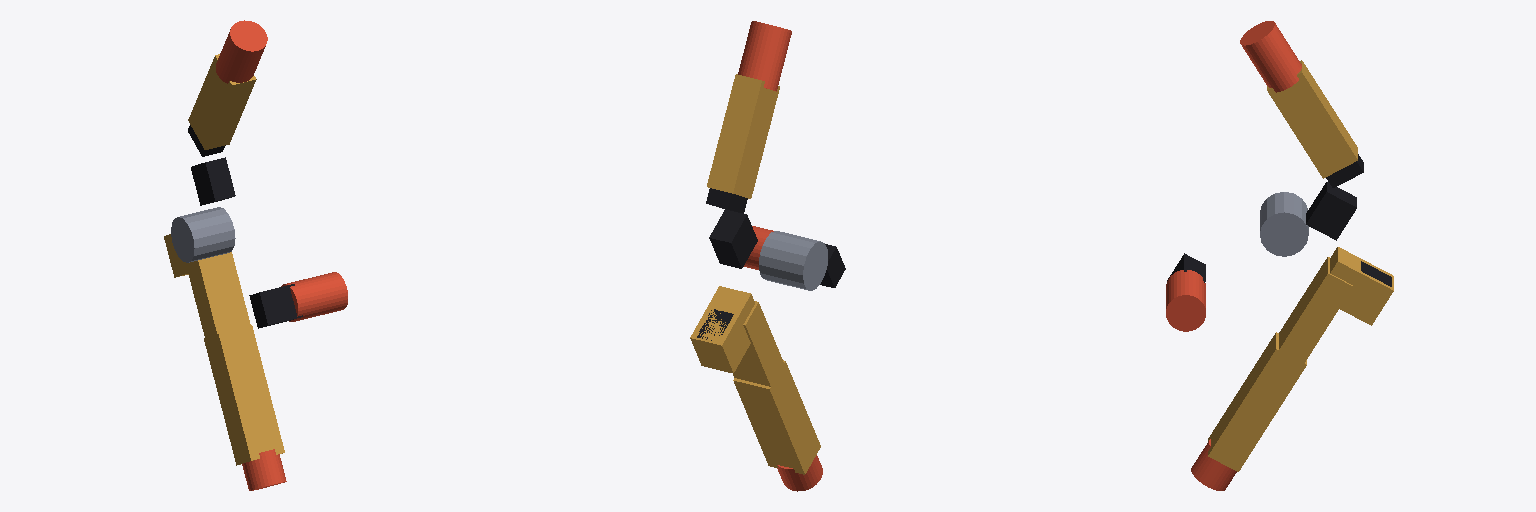
robot.urdf — g0039_c13:
<robot name="g0039_c13">
  <link name="palm">
    <visual name="palm_palm1">
      <origin xyz="0 0 0" rpy="0 0 0" />
      <geometry>
        <mesh filename="palm_palm1.obj" />
      </geometry>
      <material name="palm_palm1_mat">
        <color rgba="0.55 0.57 0.62 1" />
      </material>
    </visual>
    <collision>
      <origin xyz="0 0 0" rpy="0 0 0" />
      <geometry>
        <mesh filename="palm_palm1.obj" />
      </geometry>
    </collision>
    <visual name="palm_mount2">
      <origin xyz="0 0 0" rpy="0 0 0" />
      <geometry>
        <mesh filename="palm_mount2.obj" />
      </geometry>
      <material name="palm_mount2_mat">
        <color rgba="0.55 0.57 0.62 1" />
      </material>
    </visual>
    <collision>
      <origin xyz="0 0 0" rpy="0 0 0" />
      <geometry>
        <mesh filename="palm_mount2.obj" />
      </geometry>
    </collision>
    <visual name="palm_hinge3">
      <origin xyz="0 0.0385705081 0.0268060797" rpy="-1.57079633 0.523598776 1.57079633" />
      <geometry>
        <box size="0.029 0.034 0.02" />
      </geometry>
      <material name="palm_hinge3_mat">
        <color rgba="0.15 0.15 0.17 1" />
      </material>
    </visual>
    <collision>
      <origin xyz="0 0.0385705081 0.0268060797" rpy="-1.57079633 0.523598776 1.57079633" />
      <geometry>
        <box size="0.029 0.034 0.02" />
      </geometry>
    </collision>
    <visual name="palm_motor4">
      <origin xyz="-0.007 -0.08 -0.04" rpy="1.06057524e-16 -1.04719755 1.57079633" />
      <geometry>
        <box size="0.029 0.034 0.02" />
      </geometry>
      <material name="palm_motor4_mat">
        <color rgba="0.15 0.15 0.17 1" />
      </material>
    </visual>
    <collision>
      <origin xyz="-0.007 -0.08 -0.04" rpy="1.06057524e-16 -1.04719755 1.57079633" />
      <geometry>
        <box size="0.029 0.034 0.02" />
      </geometry>
    </collision>
    <visual name="palm_motor5">
      <origin xyz="-0.0045 0.0666996732 -0.0467548095" rpy="1.57079633 -0.523598776 -1.57079633" />
      <geometry>
        <box size="0.029 0.034 0.02" />
      </geometry>
      <material name="palm_motor5_mat">
        <color rgba="0.15 0.15 0.17 1" />
      </material>
    </visual>
    <collision>
      <origin xyz="-0.0045 0.0666996732 -0.0467548095" rpy="1.57079633 -0.523598776 -1.57079633" />
      <geometry>
        <box size="0.029 0.034 0.02" />
      </geometry>
    </collision>
    <inertial>
      <origin xyz="0 0.00368931341 -0.01892775" rpy="1.57079633 -0.0331167537 1.57079633" />
      <mass value="0.64576807" />
      <inertia ixx="0.000578373864" ixy="0" ixz="0" iyy="0.00132638435" iyz="0" izz="0.00184276448" />
    </inertial>
  </link>
  <link name="palm0">
    <visual name="palm0_palm1">
      <origin xyz="0 0 0" rpy="0 0 0" />
      <geometry>
        <mesh filename="palm0_palm1.obj" />
      </geometry>
      <material name="palm0_palm1_mat">
        <color rgba="0.55 0.57 0.62 1" />
      </material>
    </visual>
    <collision>
      <origin xyz="0 0 0" rpy="0 0 0" />
      <geometry>
        <mesh filename="palm0_palm1.obj" />
      </geometry>
    </collision>
    <visual name="palm0_motor2">
      <origin xyz="0 0.00142949192 0.0402035393" rpy="-1.57079633 -0.523598776 1.57079633" />
      <geometry>
        <box size="0.029 0.034 0.02" />
      </geometry>
      <material name="palm0_motor2_mat">
        <color rgba="0.15 0.15 0.17 1" />
      </material>
    </visual>
    <collision>
      <origin xyz="0 0.00142949192 0.0402035393" rpy="-1.57079633 -0.523598776 1.57079633" />
      <geometry>
        <box size="0.029 0.034 0.02" />
      </geometry>
    </collision>
    <inertial>
      <origin xyz="0 0.00145791609 0.0270592752" rpy="1.57079633 0.767034425 1.57079633" />
      <mass value="0.120116273" />
      <inertia ixx="2.54188292e-05" ixy="0" ixz="0" iyy="5.46456218e-05" iyz="0" izz="6.85332888e-05" />
    </inertial>
  </link>
  <link name="f0_link0">
    <visual name="f0_link0_link1">
      <origin xyz="0.029 0 -6.9388939e-18" rpy="-1.57079633 -0 -1.57079633" />
      <geometry>
        <cylinder radius="0.0165" length="0.049" />
      </geometry>
      <material name="f0_link0_link1_mat">
        <color rgba="0.85 0.35 0.25 1" />
      </material>
    </visual>
    <collision>
      <origin xyz="0.029 0 -6.9388939e-18" rpy="-1.57079633 -0 -1.57079633" />
      <geometry>
        <cylinder radius="0.0165" length="0.049" />
      </geometry>
    </collision>
    <inertial>
      <origin xyz="0.029 0 0" rpy="0 0 0" />
      <mass value="0.106270851" />
      <inertia ixx="1.35696277e-05" ixy="0" ixz="0" iyy="5.30015704e-05" iyz="0" izz="5.30015704e-05" />
    </inertial>
  </link>
  <link name="f1_link0">
    <visual name="f1_link0_link1">
      <origin xyz="-0.00625 0 -0.0165" rpy="0 4.06369831e-17 0" />
      <geometry>
        <box size="0.0365 0.029 0.053" />
      </geometry>
      <material name="f1_link0_link1_mat">
        <color rgba="0.80 0.62 0.30 1" />
      </material>
    </visual>
    <collision>
      <origin xyz="-0.00625 0 -0.0165" rpy="0 4.06369831e-17 0" />
      <geometry>
        <box size="0.0365 0.029 0.053" />
      </geometry>
    </collision>
    <inertial>
      <origin xyz="-0.00625 0 -0.0165" rpy="0 0 0" />
      <mass value="0.098175875" />
      <inertia ixx="2.98618286e-05" ixy="0" ixz="0" iyy="3.38809035e-05" iyz="0" izz="1.778006e-05" />
    </inertial>
  </link>
  <link name="f1_link1">
    <visual name="f1_link1_link1">
      <origin xyz="0.03875 0 0" rpy="0 4.06369831e-17 0" />
      <geometry>
        <box size="0.1015 0.033 0.024" />
      </geometry>
      <material name="f1_link1_link1_mat">
        <color rgba="0.80 0.62 0.30 1" />
      </material>
    </visual>
    <collision>
      <origin xyz="0.03875 0 0" rpy="0 4.06369831e-17 0" />
      <geometry>
        <box size="0.1015 0.033 0.024" />
      </geometry>
    </collision>
    <inertial>
      <origin xyz="0.03875 0 0" rpy="0 0 0" />
      <mass value="0.140679" />
      <inertia ixx="1.95192113e-05" ixy="0" ixz="0" iyy="0.000127528444" iyz="0" izz="0.000133542472" />
    </inertial>
  </link>
  <link name="f1_link2">
    <visual name="f1_link2_link1">
      <origin xyz="0.04375 0 -6.9388939e-18" rpy="0 4.06369831e-17 0" />
      <geometry>
        <box size="0.1115 0.033 0.029" />
      </geometry>
      <material name="f1_link2_link1_mat">
        <color rgba="0.80 0.62 0.30 1" />
      </material>
    </visual>
    <collision>
      <origin xyz="0.04375 0 -6.9388939e-18" rpy="0 4.06369831e-17 0" />
      <geometry>
        <box size="0.1115 0.033 0.029" />
      </geometry>
    </collision>
    <inertial>
      <origin xyz="0.04375 0 0" rpy="0 0 0" />
      <mass value="0.186734625" />
      <inertia ixx="3.00331522e-05" ixy="0" ixz="0" iyy="0.000206547947" iyz="0" izz="0.000210407129" />
    </inertial>
  </link>
  <link name="f1_link3">
    <visual name="f1_link3_link1">
      <origin xyz="0.019 0 -3.46944695e-18" rpy="-1.57079633 -0 -1.57079633" />
      <geometry>
        <cylinder radius="0.0165" length="0.029" />
      </geometry>
      <material name="f1_link3_link1_mat">
        <color rgba="0.85 0.35 0.25 1" />
      </material>
    </visual>
    <collision>
      <origin xyz="0.019 0 -3.46944695e-18" rpy="-1.57079633 -0 -1.57079633" />
      <geometry>
        <cylinder radius="0.0165" length="0.029" />
      </geometry>
    </collision>
    <inertial>
      <origin xyz="0.019 0 0" rpy="0 0 0" />
      <mass value="0.0763354" />
      <inertia ixx="9.49466441e-06" ixy="0" ixz="0" iyy="2.24143997e-05" iyz="0" izz="2.24143997e-05" />
    </inertial>
  </link>
  <link name="f2_link0">
    <visual name="f2_link0_link1">
      <origin xyz="0.03375 0 0" rpy="0 3.98552134e-18 0" />
      <geometry>
        <box size="0.0915 0.024 0.033" />
      </geometry>
      <material name="f2_link0_link1_mat">
        <color rgba="0.80 0.62 0.30 1" />
      </material>
    </visual>
    <collision>
      <origin xyz="0.03375 0 0" rpy="0 3.98552134e-18 0" />
      <geometry>
        <box size="0.0915 0.024 0.033" />
      </geometry>
    </collision>
    <inertial>
      <origin xyz="0.03375 0 0" rpy="0 0 0" />
      <mass value="0.126819" />
      <inertia ixx="1.75961363e-05" ixy="0" ixz="0" iyy="9.99888553e-05" iyz="0" izz="9.45673431e-05" />
    </inertial>
  </link>
  <link name="f2_link1">
    <visual name="f2_link1_link1">
      <origin xyz="0.029 0 -6.9388939e-18" rpy="-1.57079633 -0 -1.57079633" />
      <geometry>
        <cylinder radius="0.0165" length="0.049" />
      </geometry>
      <material name="f2_link1_link1_mat">
        <color rgba="0.85 0.35 0.25 1" />
      </material>
    </visual>
    <collision>
      <origin xyz="0.029 0 -6.9388939e-18" rpy="-1.57079633 -0 -1.57079633" />
      <geometry>
        <cylinder radius="0.0165" length="0.049" />
      </geometry>
    </collision>
    <inertial>
      <origin xyz="0.029 0 0" rpy="0 0 0" />
      <mass value="0.106270851" />
      <inertia ixx="1.35696277e-05" ixy="0" ixz="0" iyy="5.30015704e-05" iyz="0" izz="5.30015704e-05" />
    </inertial>
  </link>
  <joint name="palm0_joint" type="revolute">
    <parent link="palm" />
    <child link="palm0" />
    <origin xyz="0 0.0423205081 0.0333012702" rpy="0 0 0" />
    <axis xyz="0 0.866025404 -0.5" />
    <limit effort="0.5" lower="-0.523598776" upper="0.523598776" velocity="5" />
    <dynamics damping="0.0775033" friction="0" />
  </joint>
  <joint name="f0_j0" type="revolute">
    <parent link="palm" />
    <child link="f0_link0" />
    <origin xyz="0.0005 -0.08 -0.04" rpy="1.04719755 5.30287619e-17 -3.061617e-17" />
    <axis xyz="0 1 6.123234e-17" />
    <limit effort="0.5" lower="-0.523598776" upper="0.523598776" velocity="5" />
    <dynamics damping="0.0775033" friction="0" />
  </joint>
  <joint name="f1_j0" type="revolute">
    <parent link="palm" />
    <child link="f1_link0" />
    <origin xyz="-0.0045 0.04 -0.04" rpy="0 1.04719755 -1.57079633" />
    <axis xyz="0 0 1" />
    <limit effort="0.5" lower="-0.523598776" upper="1.57079633" velocity="5" />
    <dynamics damping="0.0775033" friction="0" />
  </joint>
  <joint name="f1_j1" type="revolute">
    <parent link="f1_link0" />
    <child link="f1_link1" />
    <origin xyz="0 0 0" rpy="0 0 0" />
    <axis xyz="0 1 6.123234e-17" />
    <limit effort="0.5" lower="-0.523598776" upper="0.523598776" velocity="5" />
    <dynamics damping="0.0775033" friction="0" />
  </joint>
  <joint name="f1_j2" type="revolute">
    <parent link="f1_link1" />
    <child link="f1_link2" />
    <origin xyz="0.08 0 0" rpy="0 0 0" />
    <axis xyz="0 1 6.123234e-17" />
    <limit effort="0.5" lower="-0.523598776" upper="0.523598776" velocity="5" />
    <dynamics damping="0.0775033" friction="0" />
  </joint>
  <joint name="f1_j3" type="revolute">
    <parent link="f1_link2" />
    <child link="f1_link3" />
    <origin xyz="0.09 0 0" rpy="0 0 0" />
    <axis xyz="0 0 1" />
    <limit effort="0.5" lower="-0.523598776" upper="1.57079633" velocity="5" />
    <dynamics damping="0.0775033" friction="0" />
  </joint>
  <joint name="f2_j0" type="revolute">
    <parent link="palm0" />
    <child link="f2_link0" />
    <origin xyz="0 -0.00232050808 0.0466987298" rpy="-0 -1.04719755 -1.57079633" />
    <axis xyz="0 0 1" />
    <limit effort="0.5" lower="-0.523598776" upper="1.57079633" velocity="5" />
    <dynamics damping="0.0775033" friction="0" />
  </joint>
  <joint name="f2_j1" type="revolute">
    <parent link="f2_link0" />
    <child link="f2_link1" />
    <origin xyz="0.07 0 0" rpy="0 0 0" />
    <axis xyz="0 0 1" />
    <limit effort="0.5" lower="-0.523598776" upper="1.57079633" velocity="5" />
    <dynamics damping="0.0775033" friction="0" />
  </joint>
</robot>

--- What the picture shows (computed from the rendered views, not written in the file) ---
3 views of the same robot in one strip: view 1: azimuth 30°, elevation 25°; view 2: azimuth 150°, elevation 25°; view 3: azimuth 270°, elevation 25° (orthographic).
Model g0039_c13 with 9 links and 8 joints (8 revolute), rooted at palm, posed all joints at 0.
Visible links, largest first — view 1: f1_link2, palm, f1_link1, f2_link0, f2_link1, f0_link0, f1_link3; view 2: palm, f2_link0, f1_link2, f1_link0, f1_link1, f2_link1, f1_link3, palm0; view 3: palm, f1_link2, f2_link0, f1_link1, f2_link1, f1_link0, f0_link0, f1_link3, palm0.
Boxes of the visible links, bbox=[...] form: f1_link2: bbox=[204, 325, 284, 465]; palm: bbox=[171, 157, 302, 328]; f1_link1: bbox=[185, 252, 250, 360]; f2_link0: bbox=[188, 54, 256, 149]; f2_link1: bbox=[216, 20, 267, 83]; f0_link0: bbox=[281, 272, 347, 321]; f1_link3: bbox=[242, 449, 286, 490]; palm: bbox=[697, 209, 845, 340]; f2_link0: bbox=[707, 74, 779, 198]; f1_link2: bbox=[733, 360, 820, 474]; f1_link0: bbox=[690, 286, 754, 373]; f1_link1: bbox=[733, 301, 790, 402]; f2_link1: bbox=[738, 21, 791, 91]; f1_link3: bbox=[777, 455, 822, 491]; palm0: bbox=[706, 188, 747, 213]; palm: bbox=[1167, 182, 1391, 286]; f1_link2: bbox=[1208, 332, 1306, 471]; f2_link0: bbox=[1267, 60, 1357, 178]; f1_link1: bbox=[1266, 257, 1352, 383]; f2_link1: bbox=[1240, 21, 1301, 92]; f1_link0: bbox=[1330, 247, 1393, 325]; f0_link0: bbox=[1166, 270, 1205, 331]; f1_link3: bbox=[1191, 439, 1236, 490]; palm0: bbox=[1326, 154, 1363, 187].
Size in the robot's own frame: 0.106 by 0.186 by 0.4197 metres.
Meshes: 3 distinct files referenced, 1 mesh visuals loaded (1 OBJ); not drawn: 2 (reference not matched to a file when rendering).
